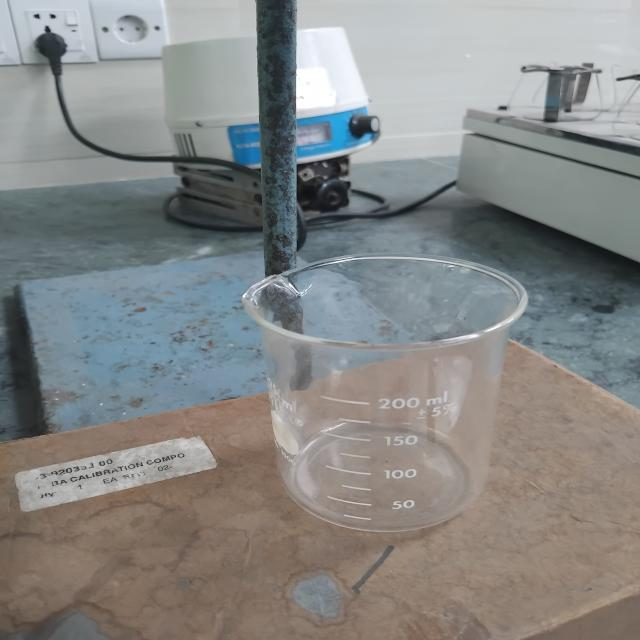Beaker: (194, 225, 569, 561)
